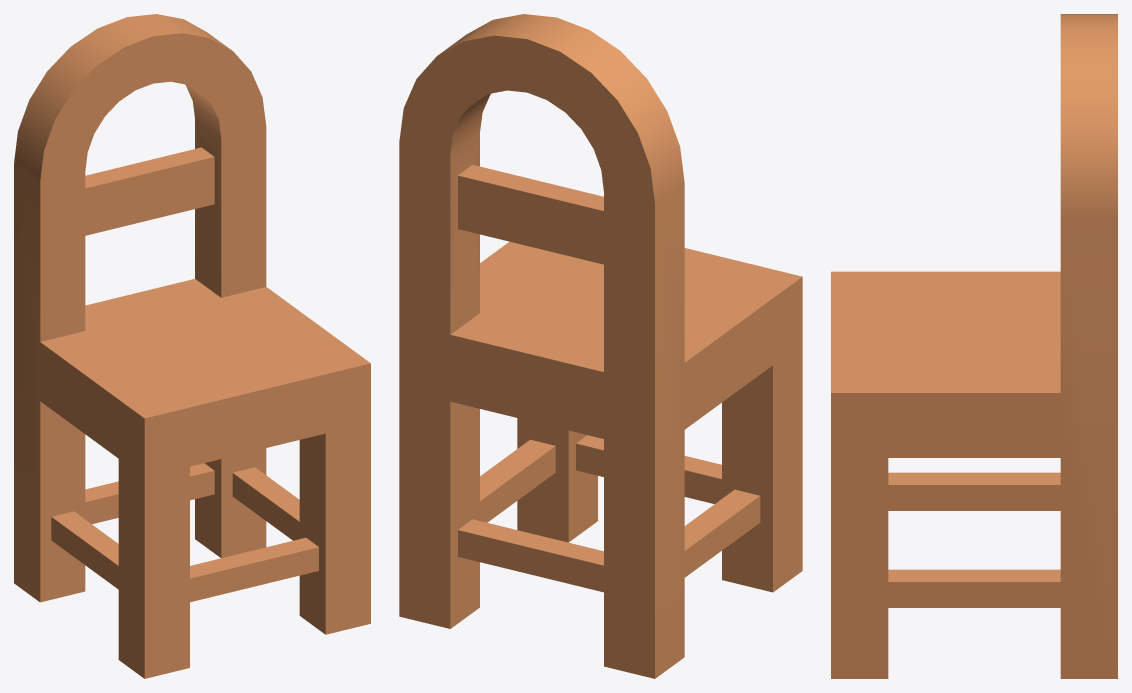
File: chairRounded.glb
3 renders of one model, left to right at view 1: azimuth 30°, elevation 25°; view 2: azimuth 150°, elevation 25°; view 3: azimuth 270°, elevation 25°, orthographic. The views are drawn at different scales.
Parts seen in each view (by area): view 1: chairRounded; view 2: chairRounded; view 3: chairRounded.
Part boxes in pixels (x1,y1,x2,y2): chairRounded: (14,14,370,678); chairRounded: (399,14,802,678); chairRounded: (831,14,1117,678).
Size of the model in its own units: 0.4 by 0.91 by 0.4.
